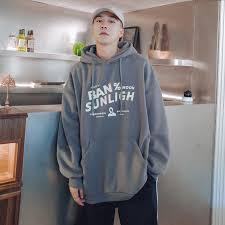sweater: (48, 40, 170, 206)
